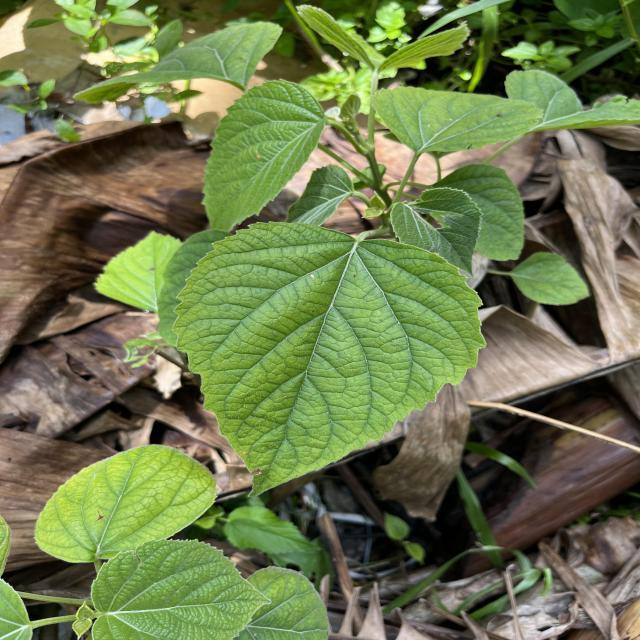Clerodendrum infortunatum: (170, 219, 489, 499), (32, 442, 218, 564), (199, 78, 329, 232), (87, 536, 275, 640), (371, 85, 545, 154)
